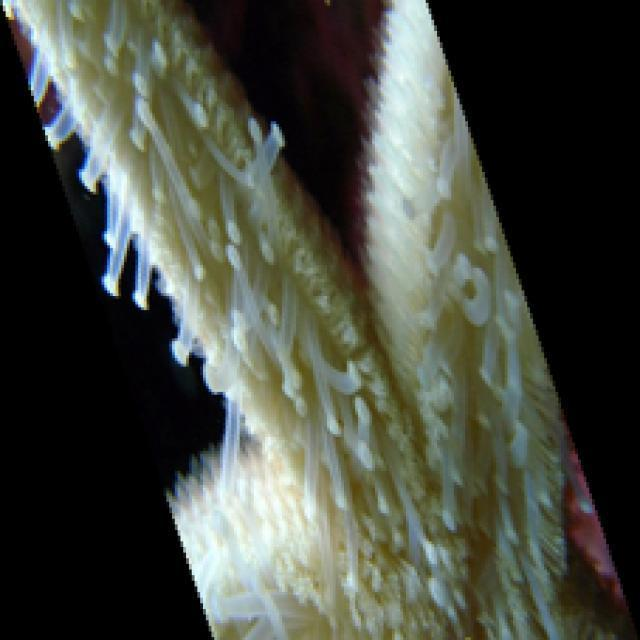Bleached: (1, 1, 410, 514), (369, 1, 592, 640), (144, 451, 514, 640)
